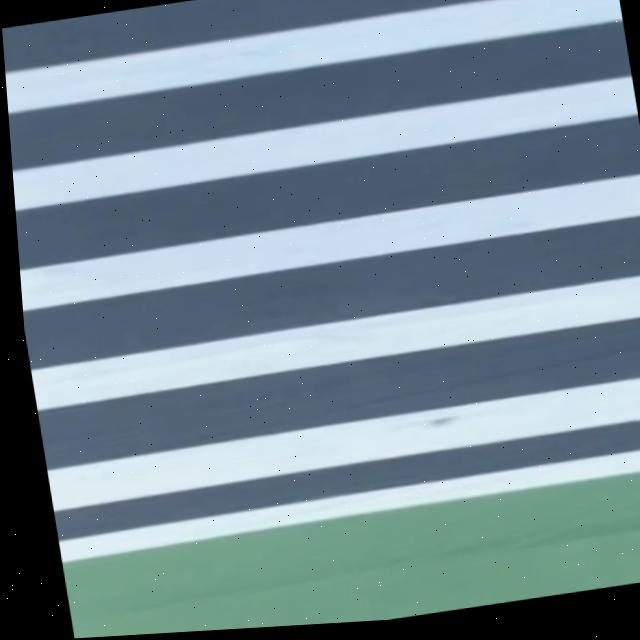right: (58, 449, 640, 561)
